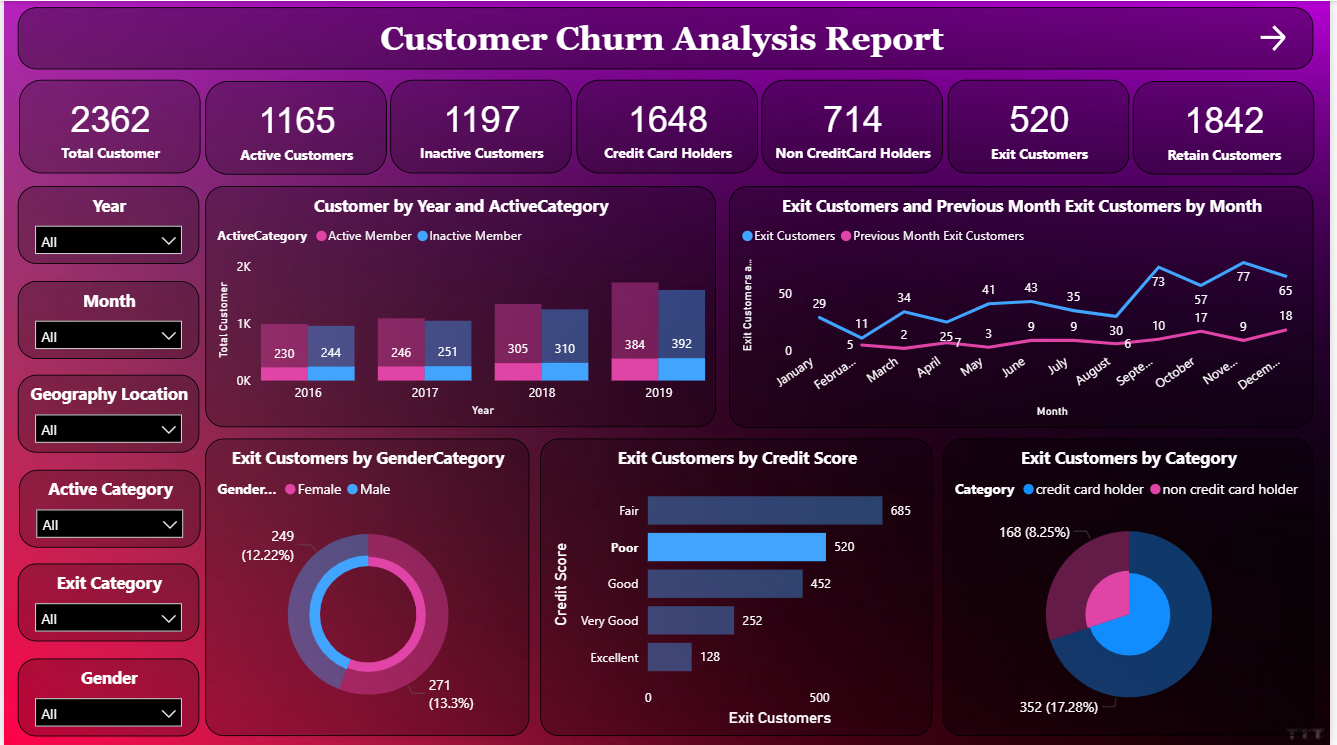

The page's visual inventory and layout, read from the dashboard file:
{"tool":"powerbi","page":{"name":"Page 1","canvas":[1280,720],"ordinal":0},"visuals":[{"type":"slicer","title":"Month","fields":{"Values":["Date Master.Month"]},"box":[13.8,269.9,175,75.5],"z":0},{"type":"textbox","box":[13.8,6.2,1250,60],"z":1000},{"type":"card","title":"Total Customers","fields":{"Values":["Calculation.Total Customer"]},"box":[15,76.2,175,90],"z":2000,"group":"g1"},{"type":"slicer","title":"Year","fields":{"Values":["Date Master.Year"]},"box":[13.8,178.8,175,75.5],"z":2000},{"type":"group","id":"g1","title":"Group 1","box":[15,76.2,1250,91.2],"z":3000},{"type":"card","title":"Active Customers","fields":{"Values":["Calculation.Active Customer"]},"box":[194.2,77.4,175,90],"z":4000,"group":"g1"},{"type":"slicer","title":"Exit Category","fields":{"Values":["Exit Customer.ExitCategory"]},"box":[13.8,543.3,175,75.5],"z":4000},{"type":"card","title":"Non Credit Card Holders","fields":{"Values":["Calculation.Non CreditCard Holders"]},"box":[731.7,76.2,175,90],"z":5000,"group":"g1"},{"type":"slicer","title":"Active Category","fields":{"Values":["ActiveCustomer.ActiveCategory"]},"box":[15,452.2,175,75.5],"z":5000},{"type":"card","title":"Credit Card Holders","fields":{"Values":["Calculation.CreditCard Holder"]},"box":[552.5,76.2,175,90],"z":6000,"group":"g1"},{"type":"slicer","title":"Geography Location","fields":{"Values":["Geography.GeographyLocation"]},"box":[13.8,361,175,75.5],"z":6000},{"type":"card","title":"Inactive Customers","fields":{"Values":["Calculation.Inactive Customers"]},"box":[373.3,76.2,175,90],"z":7000,"group":"g1"},{"type":"slicer","title":"Gender","fields":{"Values":["Gender.GenderCategory"]},"box":[13.8,634.5,175,75.5],"z":7000},{"type":"card","title":"Retain Customers","fields":{"Values":["Calculation.Retain Customers"]},"box":[1090,77.4,175,90],"z":8000,"group":"g1"},{"type":"clusteredColumnChart","title":"Customer by Year and ActiveCategory","fields":{"Category":["Date Master.Year","Date Master.Month"],"Y":["Calculation.Total Customer"],"Series":["ActiveCustomer.ActiveCategory"]},"box":[193.8,178.8,492.5,232.5],"z":8000},{"type":"card","title":"Exit Customers","fields":{"Values":["Calculation.Exit Customers"]},"box":[910.8,76.2,175,90],"z":9000,"group":"g1"},{"type":"lineChart","fields":{"Category":["Date Master.Month"],"Y":["Calculation.Exit Customers","Calculation.Previous Month Exit Customers"]},"box":[700,178.8,563.8,233.8],"z":9000},{"type":"donutChart","fields":{"Y":["Calculation.Exit Customers"],"Category":["Gender.GenderCategory"]},"box":[193.8,422.5,312.5,287.5],"z":10000},{"type":"clusteredBarChart","fields":{"Y":["Calculation.Exit Customers"],"Category":["Bank_Churn.Credit Score"]},"box":[517.5,422.5,378.8,287.5],"z":11000},{"type":"actionButton","box":[1203.8,16.2,46.2,40],"z":12000},{"type":"pieChart","fields":{"Y":["Calculation.Exit Customers"],"Category":["CreditCard.Category"]},"box":[906.2,422.5,357.5,287.5],"z":13000}]}

Visuals, with their boxes in screenshot pixels (x1, y1, x2, y2), scaled from the page's 1280x720 canvas onto the 1337x745 screenshot:
"Month" slicer: (14,279,197,357)
textbox: (14,6,1320,68)
"Total Customers" card: (16,79,198,172)
"Year" slicer: (14,185,197,263)
"Group 1" group: (16,79,1321,173)
"Active Customers" card: (203,80,386,173)
"Exit Category" slicer: (14,562,197,640)
"Non Credit Card Holders" card: (764,79,947,172)
"Active Category" slicer: (16,468,198,546)
"Credit Card Holders" card: (577,79,760,172)
"Geography Location" slicer: (14,374,197,452)
"Inactive Customers" card: (390,79,573,172)
"Gender" slicer: (14,657,197,735)
"Retain Customers" card: (1139,80,1321,173)
"Customer by Year and ActiveCategory" clusteredColumnChart: (202,185,717,426)
"Exit Customers" card: (951,79,1134,172)
lineChart - Date Master.Month x Calculation.Exit Customers: (731,185,1320,427)
donutChart - Calculation.Exit Customers x Gender.GenderCategory: (202,437,529,735)
clusteredBarChart - Calculation.Exit Customers x Bank_Churn.Credit Score: (541,437,936,735)
actionButton: (1257,17,1306,58)
pieChart - Calculation.Exit Customers x CreditCard.Category: (947,437,1320,735)
